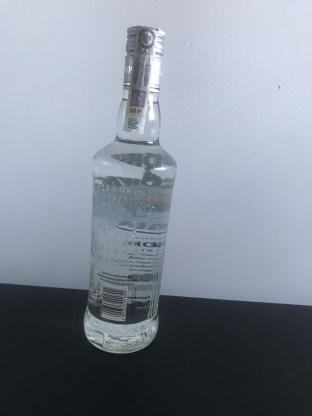nakretka: (120, 20, 167, 97)
